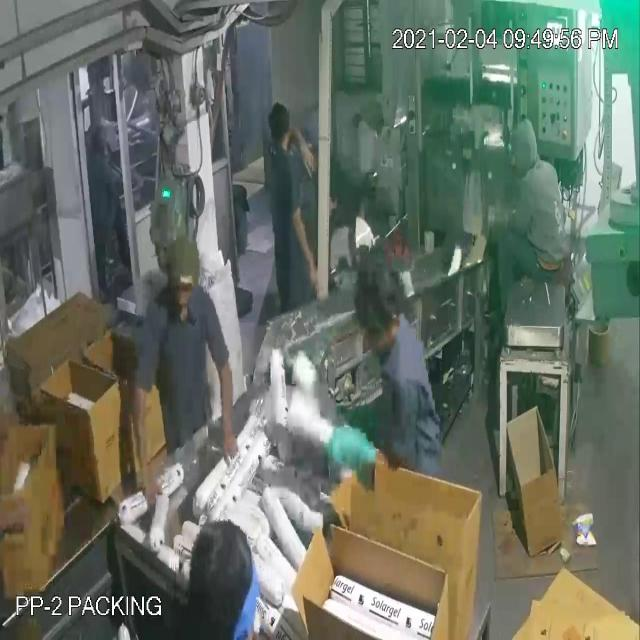gloves: (320, 406, 386, 489)
no-gloves: (121, 353, 159, 514), (208, 335, 240, 482), (289, 193, 327, 309), (279, 109, 321, 185)
